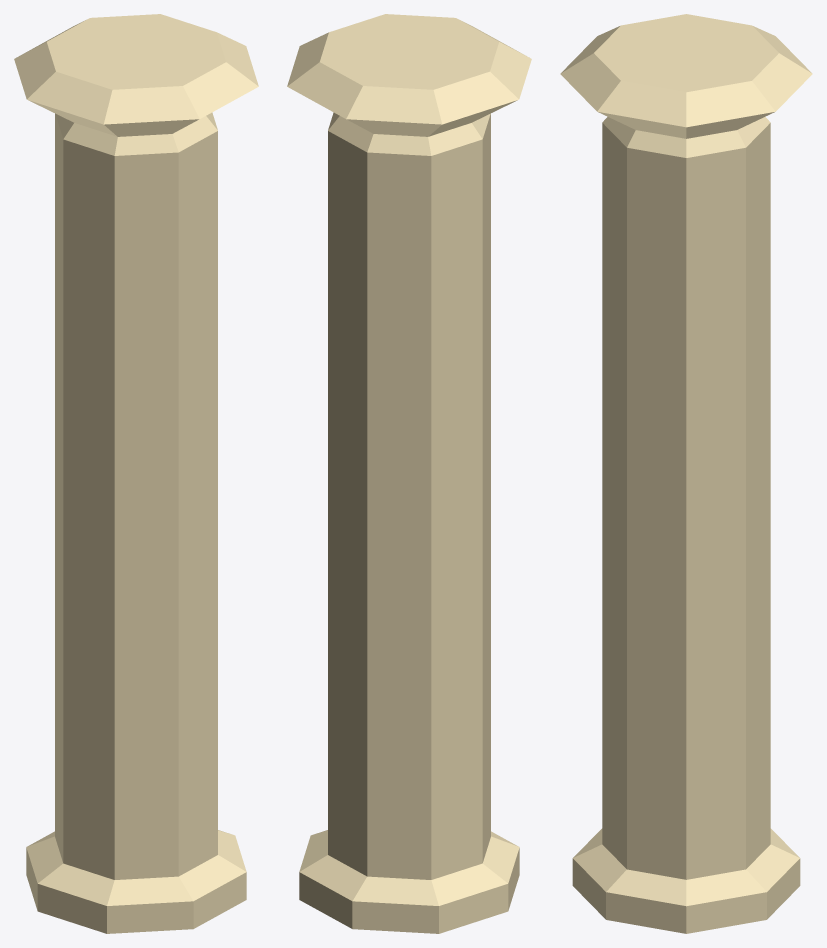
File: column_standing.fbx
3 views of the same model, side by side, from view 1: azimuth 30°, elevation 25°; view 2: azimuth 150°, elevation 25°; view 3: azimuth 270°, elevation 25° (orthographic).
Visible parts, largest first — view 1: column_standing; view 2: column_standing; view 3: column_standing.
Part boxes in pixels (<box>): column_standing: <box>14,14,258,933</box>; column_standing: <box>287,14,531,933</box>; column_standing: <box>560,14,812,933</box>.
Bounding box in the file's own units: 1.65 × 6 × 1.65.
1 material, 1 textured.
